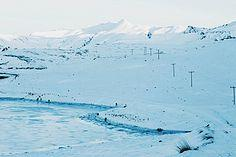sea_river: (0, 37, 223, 106), (3, 57, 153, 103)
